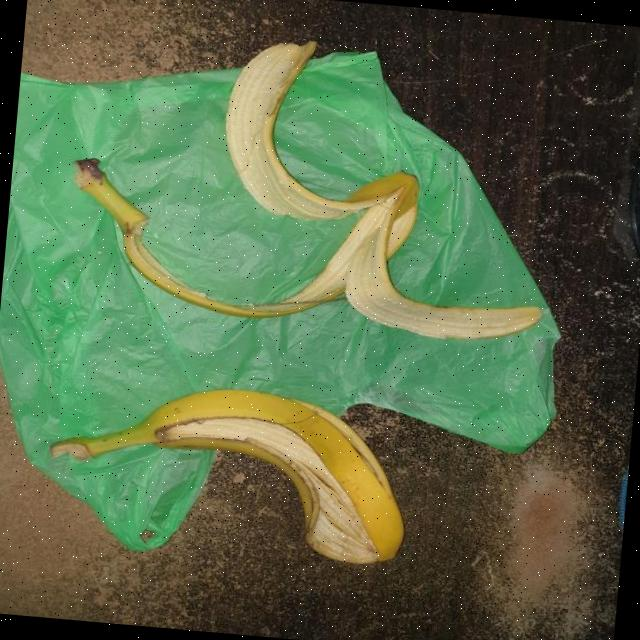banana-peel: (59, 19, 564, 347), (40, 370, 416, 569)
